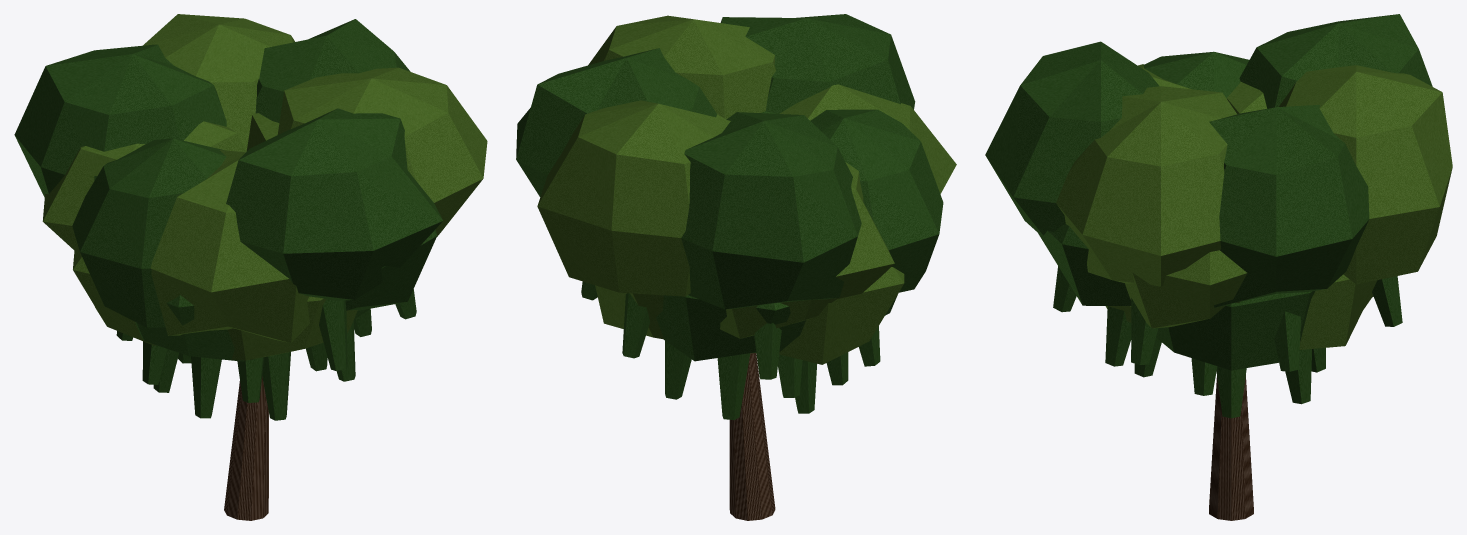
File: tree_willow_01.fbx
The picture shows the model from 3 angles, left to right: view 1: azimuth 30°, elevation 25°; view 2: azimuth 150°, elevation 25°; view 3: azimuth 270°, elevation 25°; orthographic projection. The views are drawn at different scales.
Visible parts, largest first — view 1: tree_willow_01_LOD0; view 2: tree_willow_01_LOD0; view 3: tree_willow_01_LOD0.
Boxes of the visible parts, x1,y1,x2,y2 form: tree_willow_01_LOD0: (14,14,487,520); tree_willow_01_LOD0: (516,14,956,520); tree_willow_01_LOD0: (985,14,1452,520).
Size of what is drawn, in the model's own units: 0.9215 by 1 by 0.9298.
